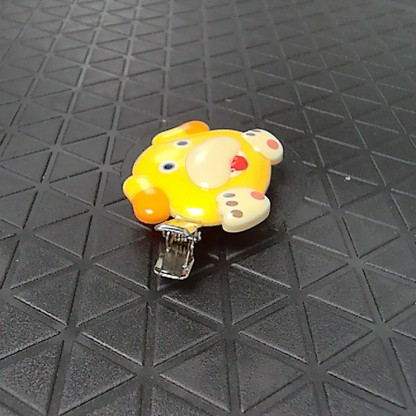dogclip: (119, 118, 285, 282)
